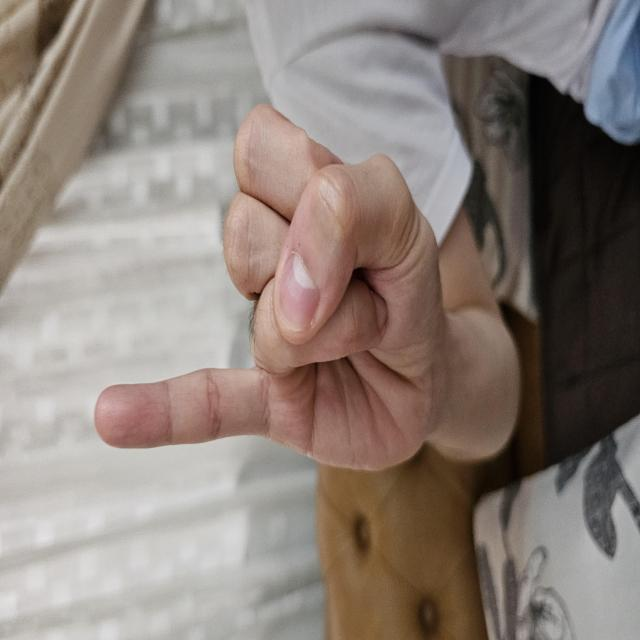I: (166, 92, 540, 442)
